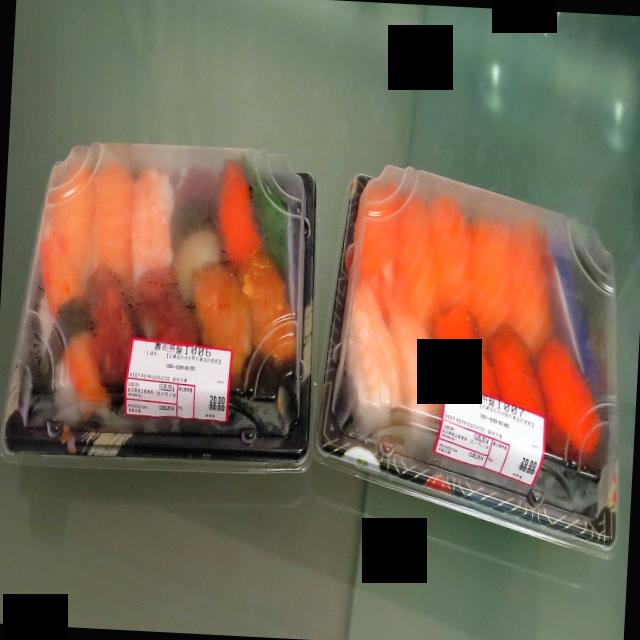sushi: (325, 165, 620, 546), (1, 143, 317, 469)
